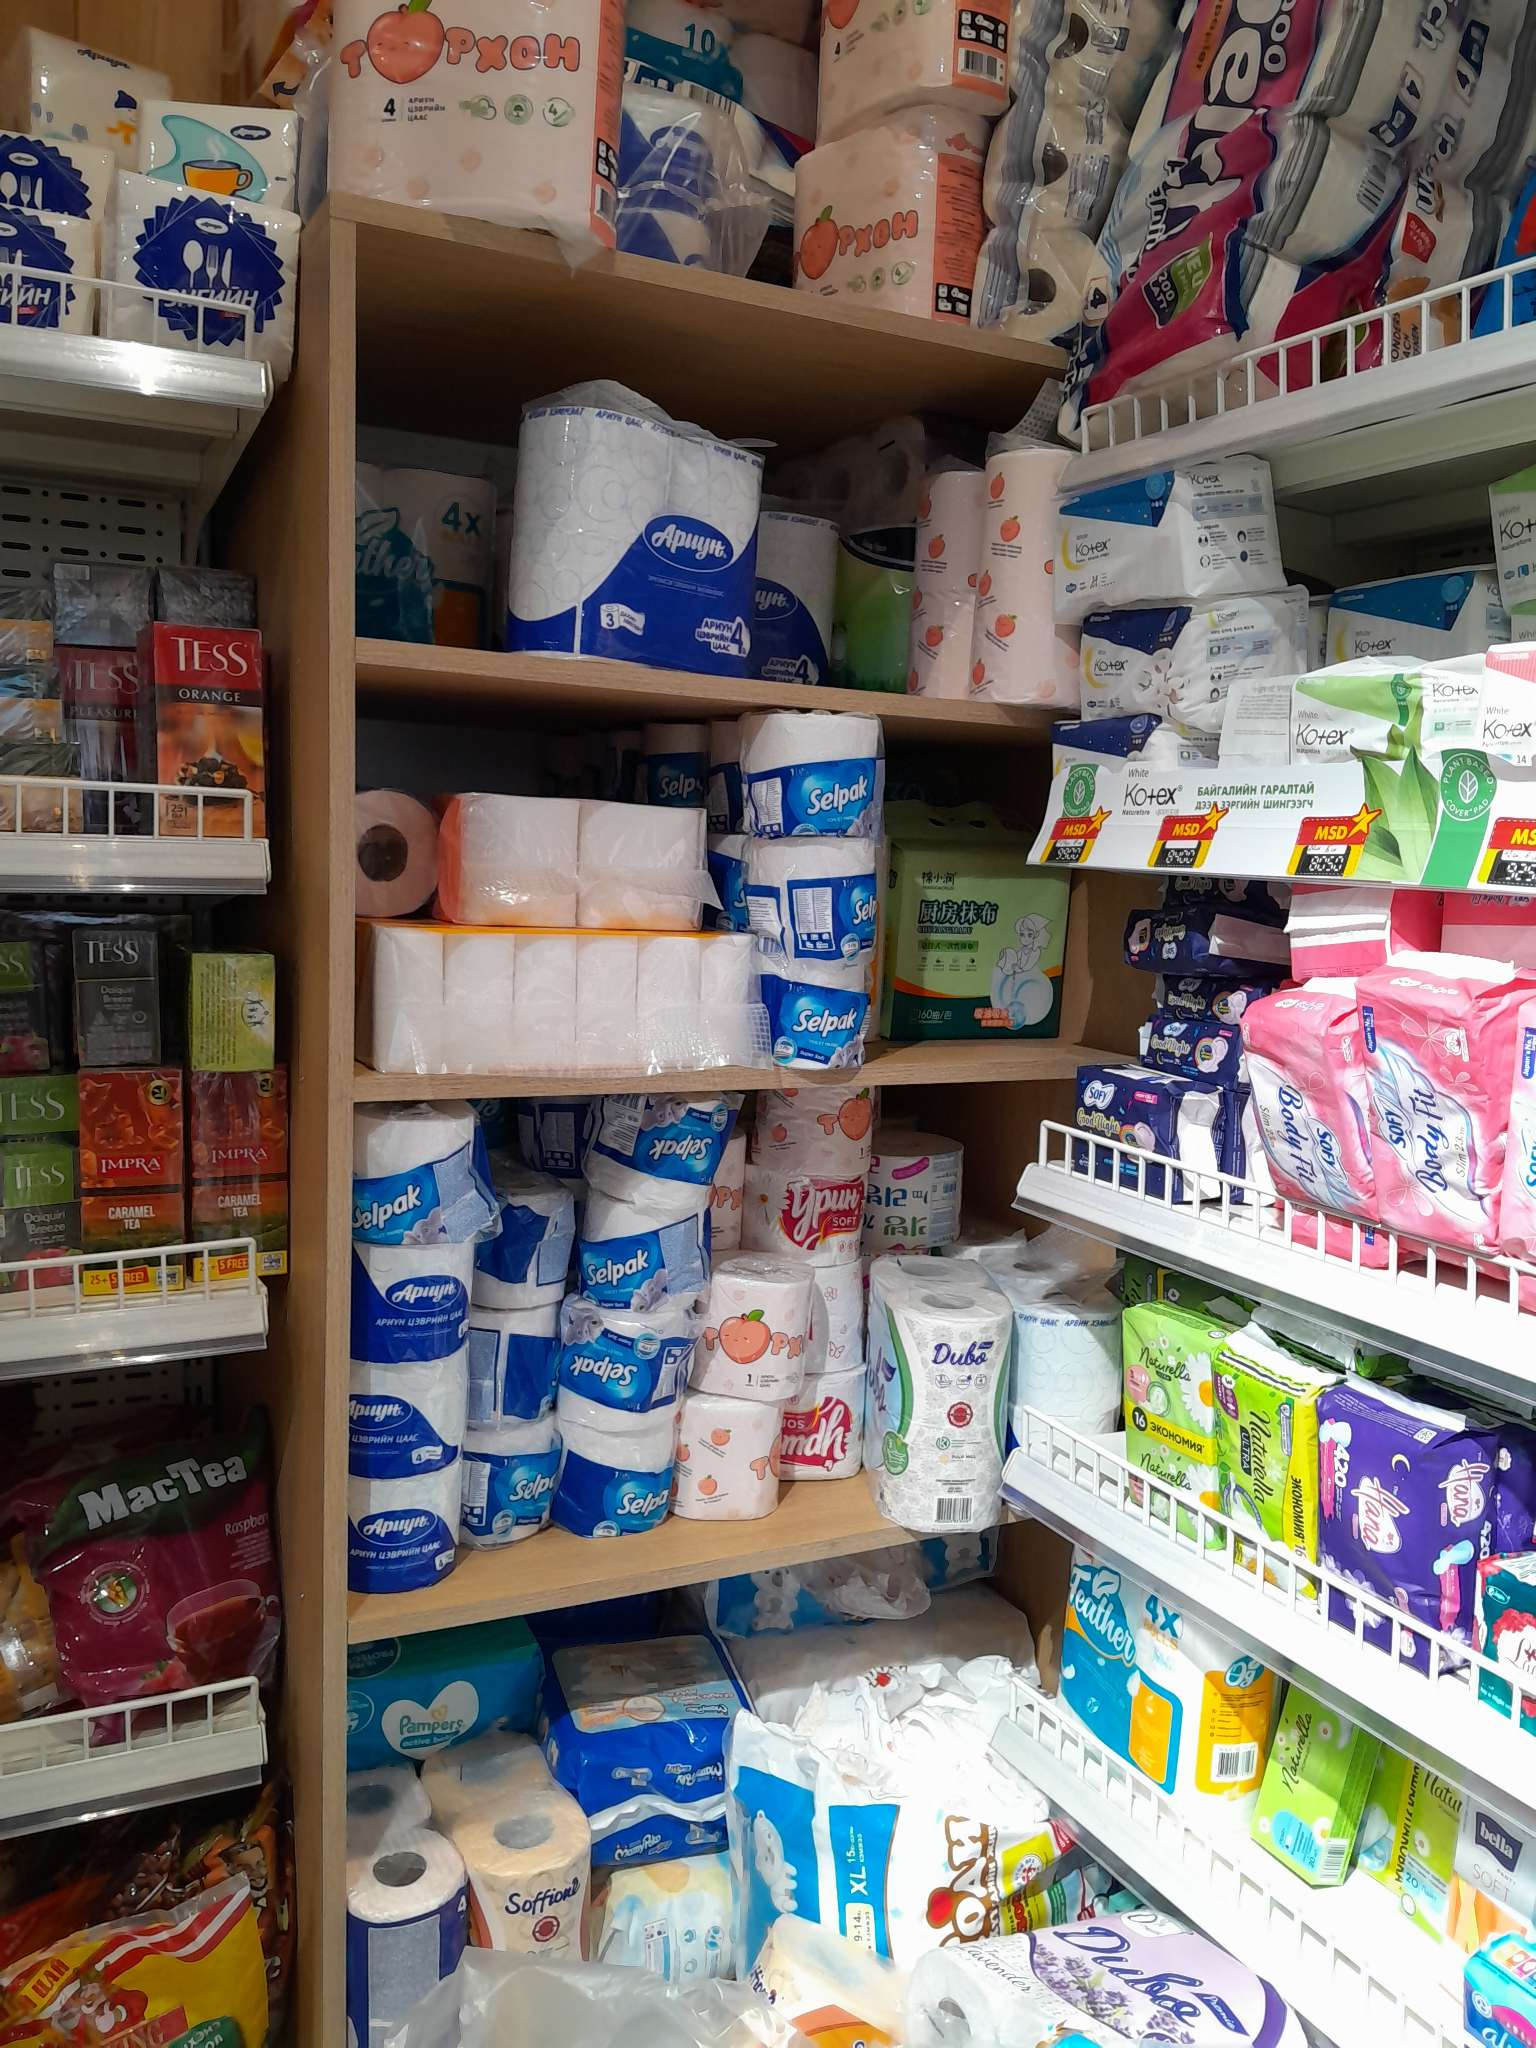ariun: (537, 411, 763, 643), (95, 177, 300, 358), (352, 1268, 489, 1372), (339, 1495, 471, 1595), (355, 1380, 470, 1488)
bella: (1446, 1792, 1517, 1977)
divo: (913, 1911, 1276, 2048), (870, 1247, 1012, 1524)
hana: (1328, 1364, 1486, 1642)
impra: (87, 1072, 186, 1274), (197, 1074, 289, 1274)
kotex: (1296, 668, 1536, 808), (1044, 481, 1284, 600), (1315, 564, 1510, 695), (1075, 616, 1271, 731)
naturella: (1202, 1326, 1320, 1571), (1265, 1680, 1368, 1887), (1123, 1309, 1202, 1514)
selpak: (718, 843, 892, 971), (728, 714, 884, 837), (355, 1113, 482, 1259), (573, 1197, 699, 1326), (600, 1097, 742, 1208), (450, 1445, 558, 1582), (545, 1432, 668, 1551), (541, 1329, 682, 1424), (766, 974, 876, 1082)
sofy body fit: (1367, 943, 1513, 1259), (1233, 998, 1383, 1232), (1075, 1053, 1228, 1216), (1096, 908, 1260, 971), (1126, 979, 1241, 1058)
tess: (147, 619, 292, 853), (47, 631, 131, 824), (0, 1069, 79, 1266), (79, 908, 161, 1066)
toorkhon: (313, 3, 621, 234), (912, 453, 1036, 706), (786, 153, 973, 305), (805, 3, 995, 134), (691, 1393, 787, 1522), (712, 1290, 805, 1385)
ud: (1026, 1522, 1260, 1788)
urin: (774, 1176, 878, 1258), (787, 1390, 865, 1479)
